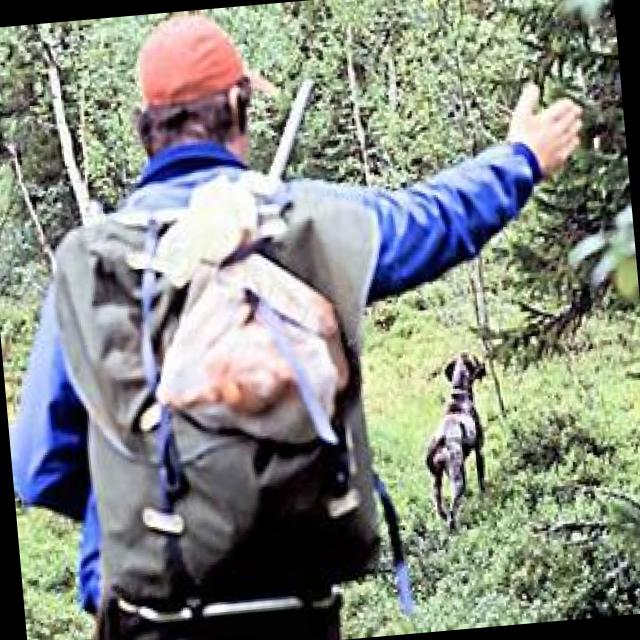dog: (415, 348, 501, 535)
